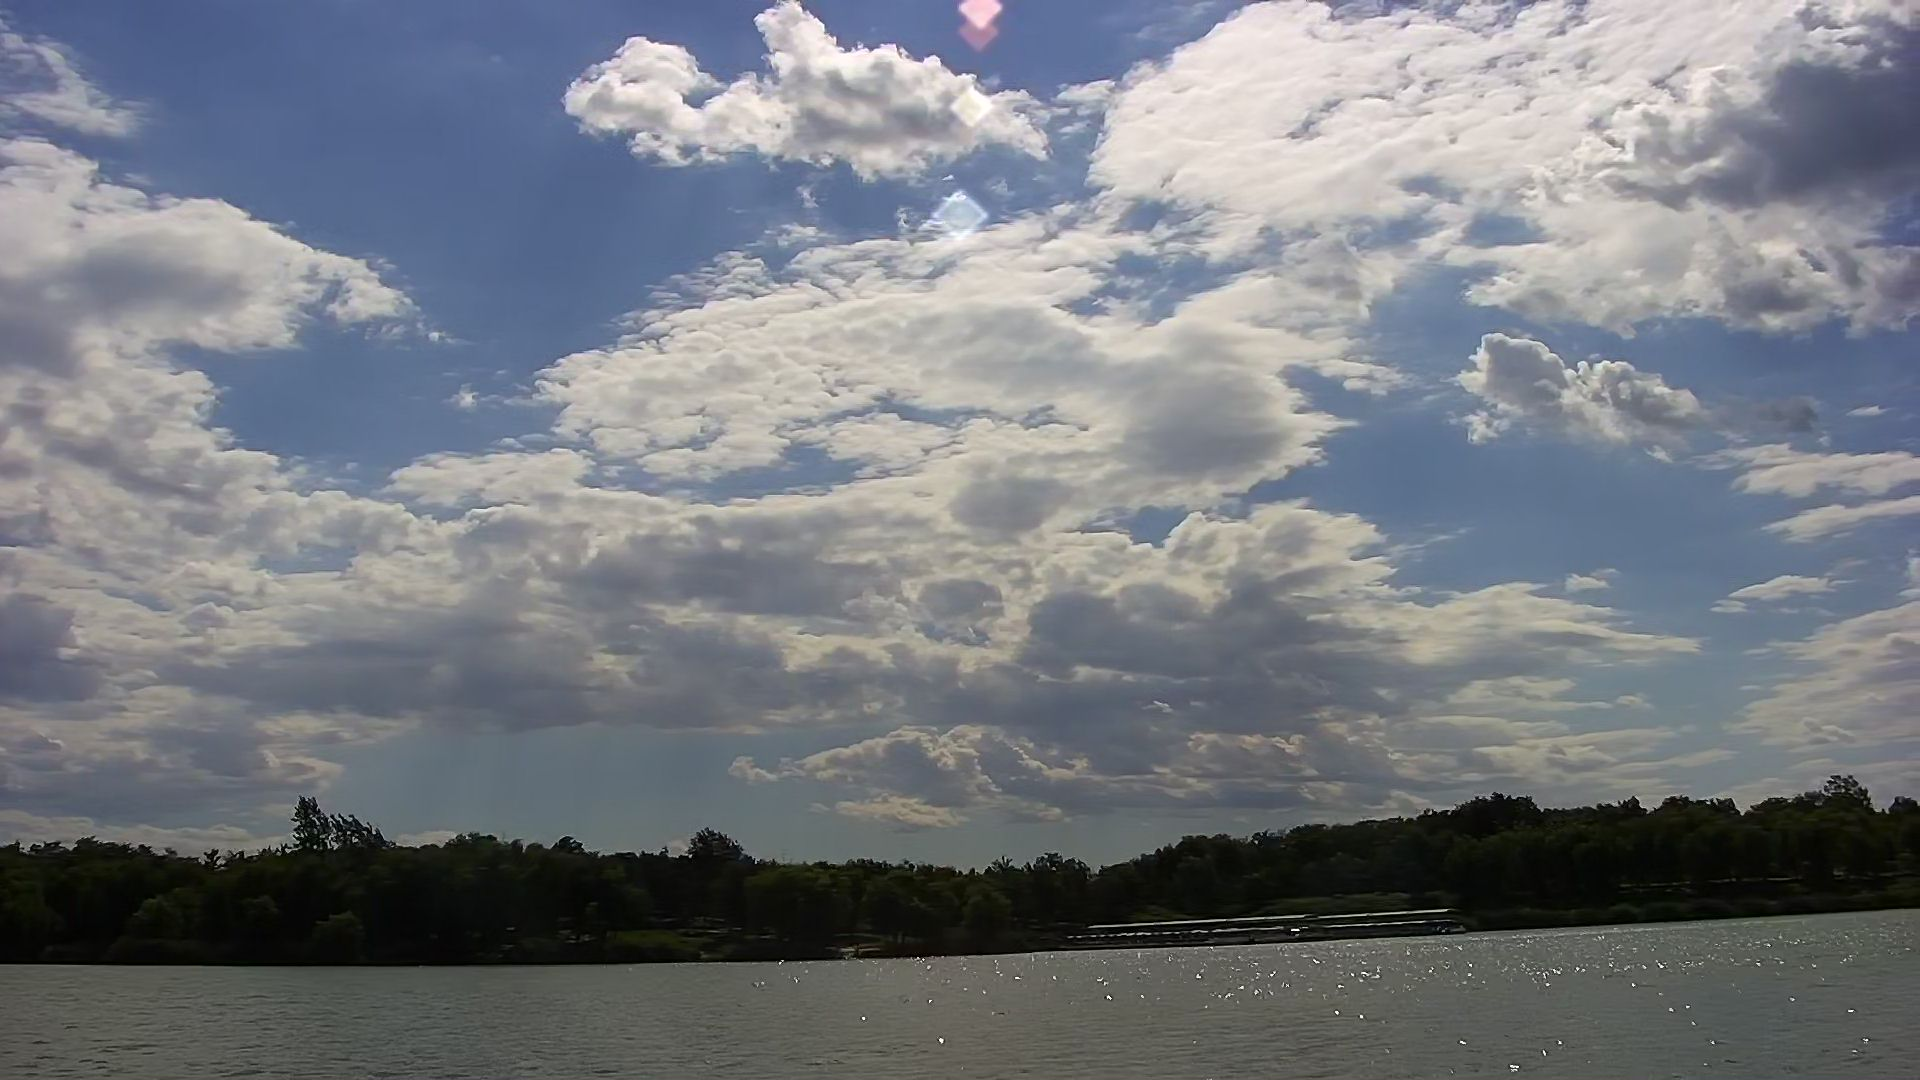harbor: (1058, 884, 1486, 956)
